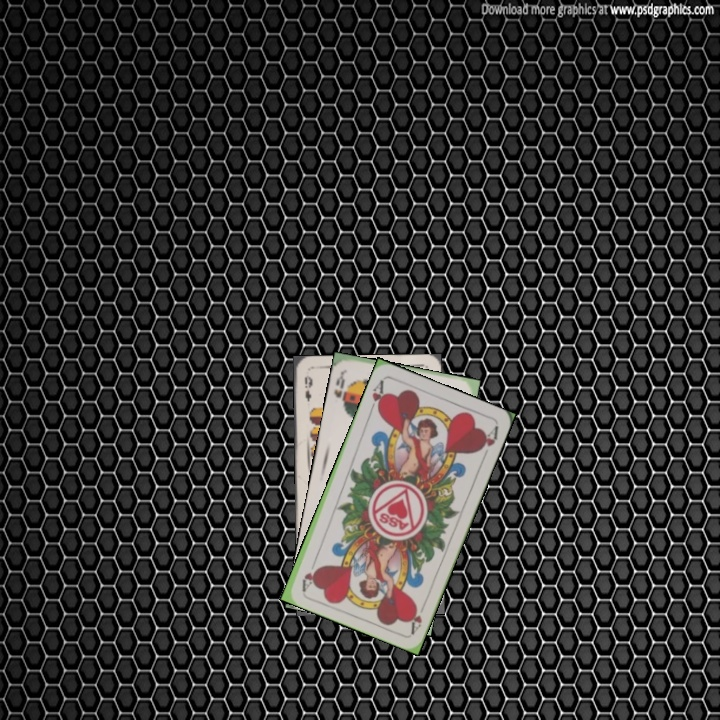E9: (301, 371, 315, 404)
HA: (405, 597, 429, 636), (366, 375, 388, 415)
SO: (330, 368, 351, 410)
